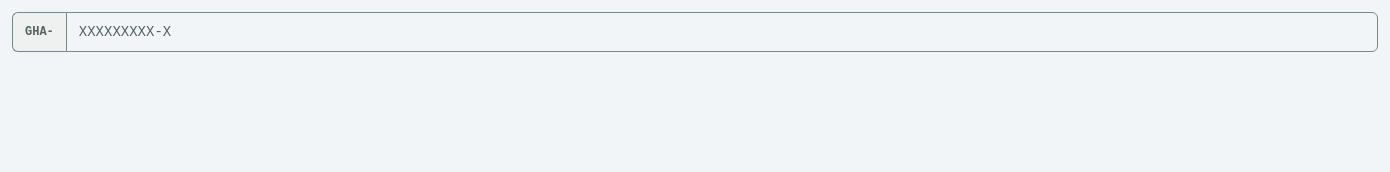
Scenario: GhanaCardInput – inline error after blur › shows inline error on blur when partially typed
Type "12345" into the field. click: (722, 32)
box: [66,12,1378,52]
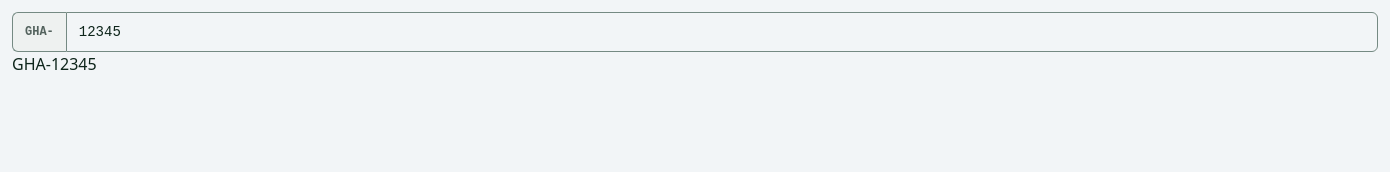
Leave the field, box [66,12,1378,52]
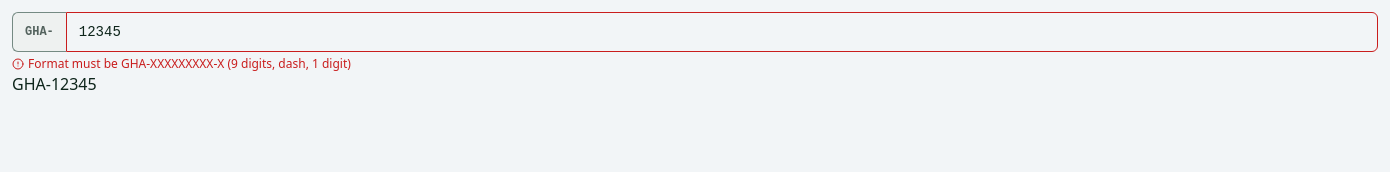
Expected: the text "Format must be GHA-XXXXXXXXX-X (9 digits, dash, 1 digit)" is shown, [12,55,351,72]
